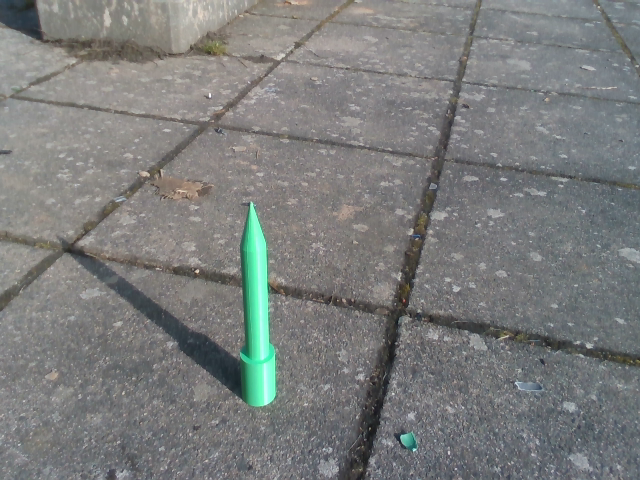Probe: (235, 189, 283, 410)
